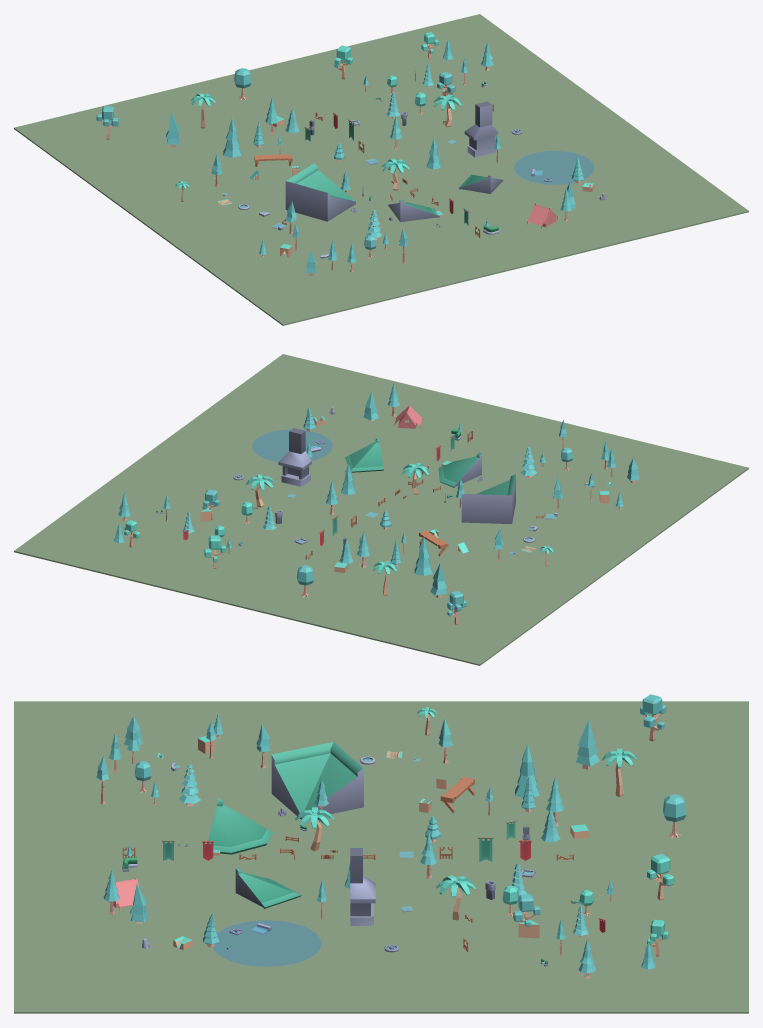
The model's file is world.glb.
The picture shows the model from 3 angles, top to bottom: view 1: azimuth 30°, elevation 25°; view 2: azimuth 150°, elevation 25°; view 3: azimuth 270°, elevation 25°; orthographic projection. The views are drawn at different scales.
Visible parts, largest first — view 1: Terrain, Shrine_004_roof-corner-inner, PondWater, Shrine_000_chimney-base, Shrine_005_roof-corner-round, Shrine_006_roof-corner; view 2: Terrain, Shrine_004_roof-corner-inner, PondWater, Shrine_000_chimney-base, Shrine_005_roof-corner-round, Shrine_006_roof-corner; view 3: Terrain, Shrine_004_roof-corner-inner, PondWater, Shrine_005_roof-corner-round, Shrine_000_chimney-base, Shrine_006_roof-corner, Tree_035_tree_detailed_dark, Tree_034_tree_detailed, Tree_038_tree_palmDetailedSho, Tree_022_tree_pineSmallC, Tree_008_tree_palmDetailedSho, Tree_043_tree_pineGroundB (+5 smaller).
Boxes of the visible parts, bbox=[...] form: Terrain: bbox=[14, 14, 748, 325]; Shrine_004_roof-corner-inner: bbox=[285, 163, 355, 221]; PondWater: bbox=[514, 151, 594, 184]; Shrine_000_chimney-base: bbox=[464, 101, 498, 157]; Shrine_005_roof-corner-round: bbox=[388, 200, 439, 222]; Shrine_006_roof-corner: bbox=[459, 174, 503, 193]; Terrain: bbox=[14, 354, 748, 665]; Shrine_004_roof-corner-inner: bbox=[461, 474, 515, 523]; PondWater: bbox=[252, 429, 332, 461]; Shrine_000_chimney-base: bbox=[278, 428, 311, 486]; Shrine_005_roof-corner-round: bbox=[438, 453, 481, 487]; Shrine_006_roof-corner: bbox=[345, 438, 383, 472]; Terrain: bbox=[14, 701, 748, 1013]; Shrine_004_roof-corner-inner: bbox=[271, 742, 363, 819]; PondWater: bbox=[212, 920, 321, 966]; Shrine_005_roof-corner-round: bbox=[208, 798, 273, 854]; Shrine_000_chimney-base: bbox=[350, 848, 375, 925]; Shrine_006_roof-corner: bbox=[235, 868, 301, 908]; Tree_035_tree_detailed_dark: bbox=[640, 694, 666, 741]; Tree_034_tree_detailed: bbox=[647, 854, 674, 900]; Tree_038_tree_palmDetailedSho: bbox=[436, 875, 476, 920]; Tree_022_tree_pineSmallC: bbox=[576, 719, 599, 769]; Tree_008_tree_palmDetailedSho: bbox=[295, 807, 334, 851]; Tree_043_tree_pineGroundB: bbox=[515, 744, 539, 797].
Bounding box in the file's own units: 160 × 16.45 × 160.
124 materials, 34 textured.
